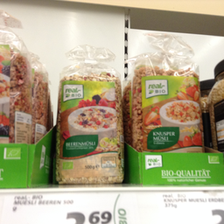cereal: (58, 64, 124, 185), (132, 54, 205, 156), (1, 51, 37, 143)
